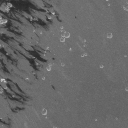corrosion: (60, 31, 70, 43), (106, 32, 113, 40), (41, 108, 48, 116), (45, 65, 52, 71), (80, 52, 88, 57), (99, 64, 104, 69)
